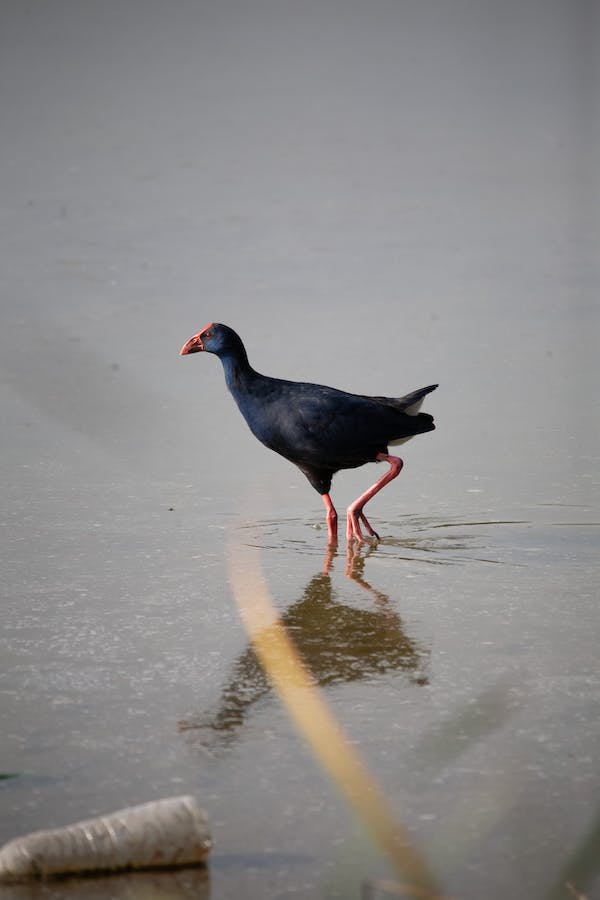Walking: (169, 296, 434, 633)
